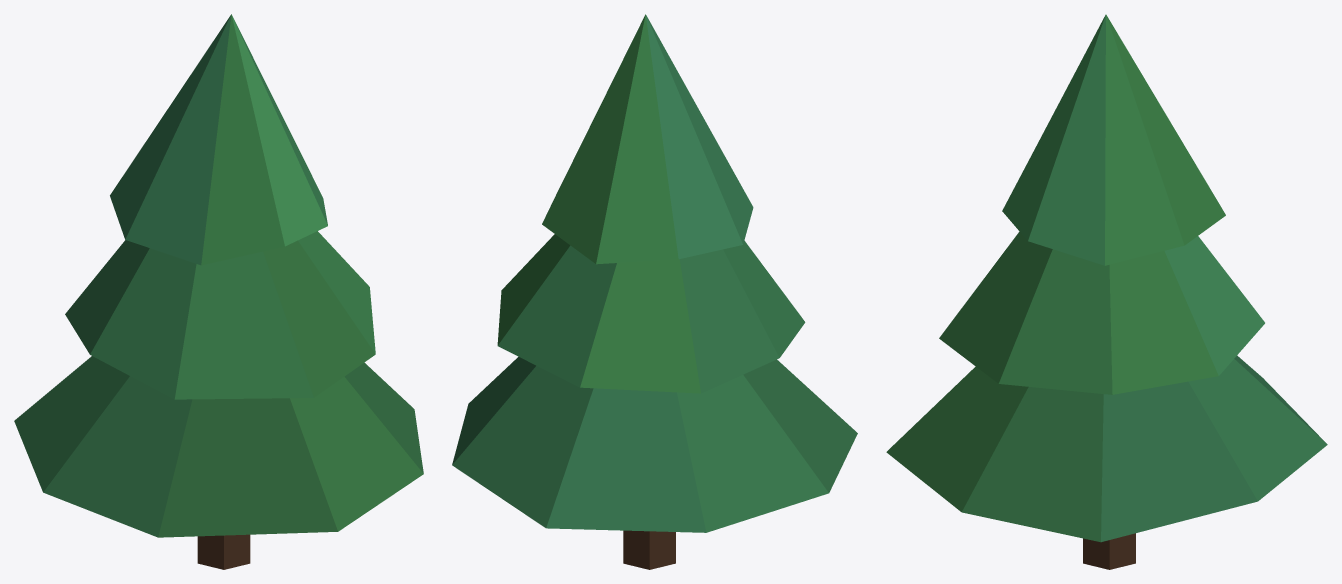
File: pine_tree.glb
3 renders of one model, left to right at view 1: azimuth 30°, elevation 25°; view 2: azimuth 150°, elevation 25°; view 3: azimuth 270°, elevation 25°, orthographic.
Parts seen in each view (by area): view 1: pine; view 2: pine; view 3: pine.
Boxes of the visible parts, x1,y1,x2,y2 form: pine: (14, 14, 423, 569); pine: (452, 14, 857, 569); pine: (886, 14, 1327, 569).
Size of the model in its own units: 1.39 by 1.96 by 1.44.
